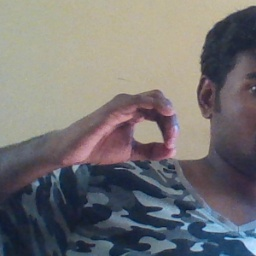O: (61, 87, 184, 168)
